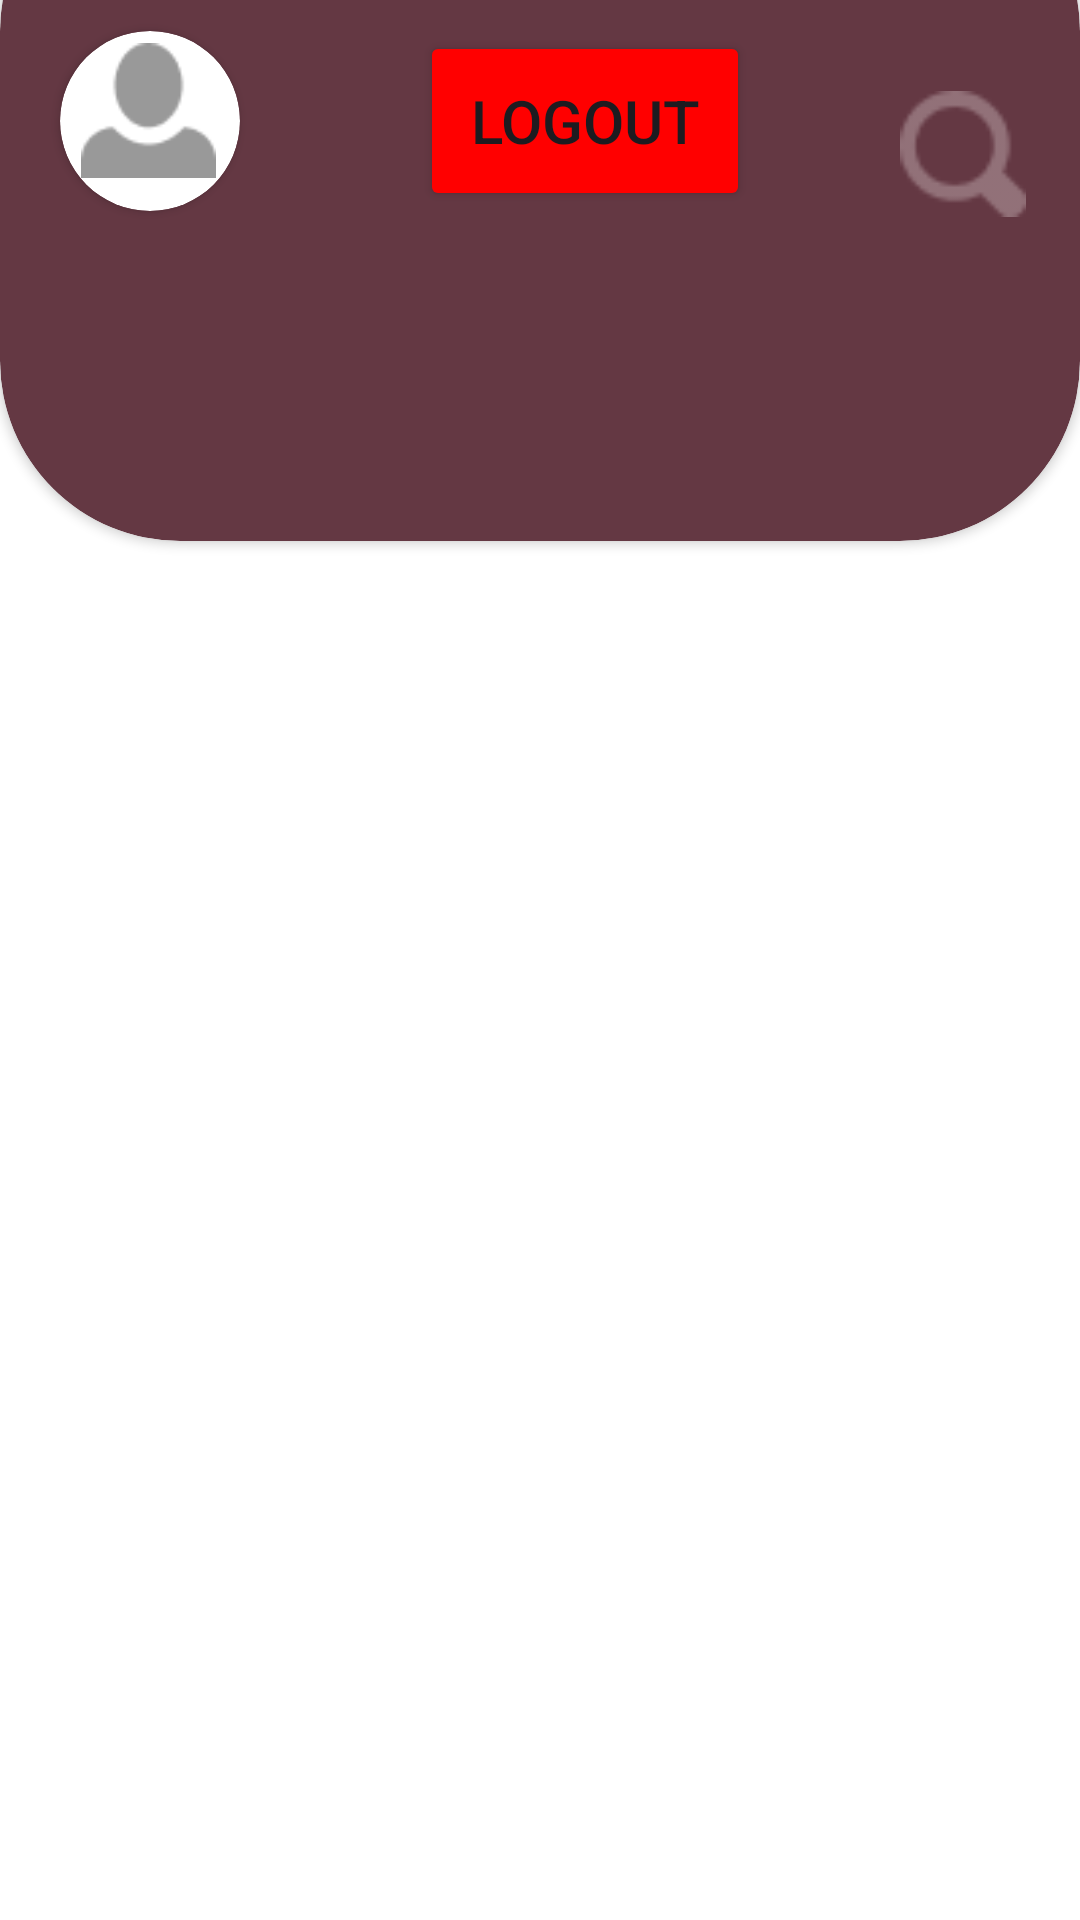

Icons on this 1080px x 1920px Android screen, each with the point to tap as point (x, y):
search: point (963, 154)
user: point (148, 110)
